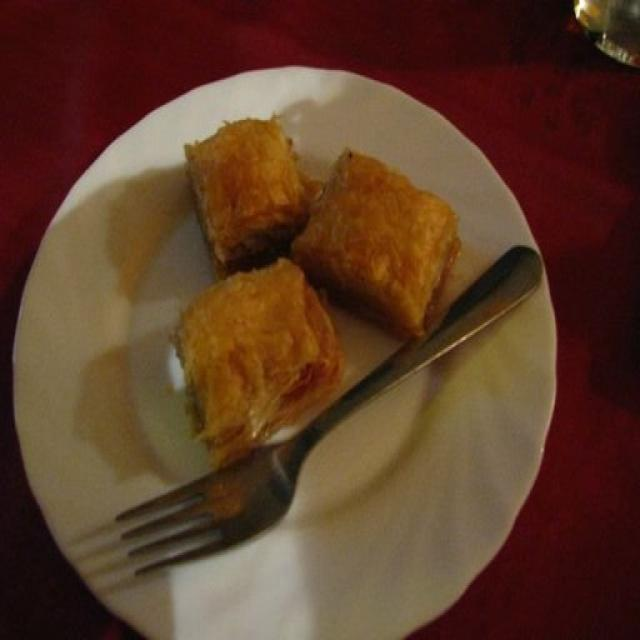Baklawa: (170, 257, 341, 473), (292, 147, 472, 350), (169, 125, 310, 272)
